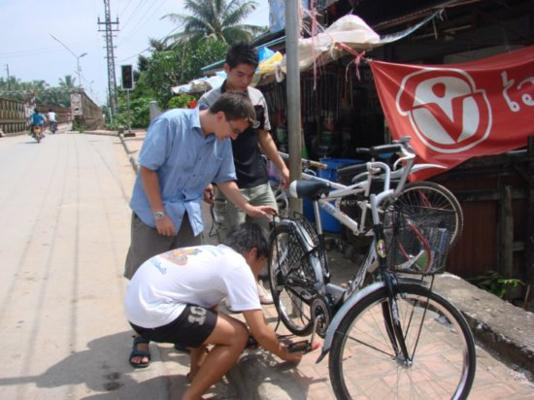person: (123, 223, 308, 400)
